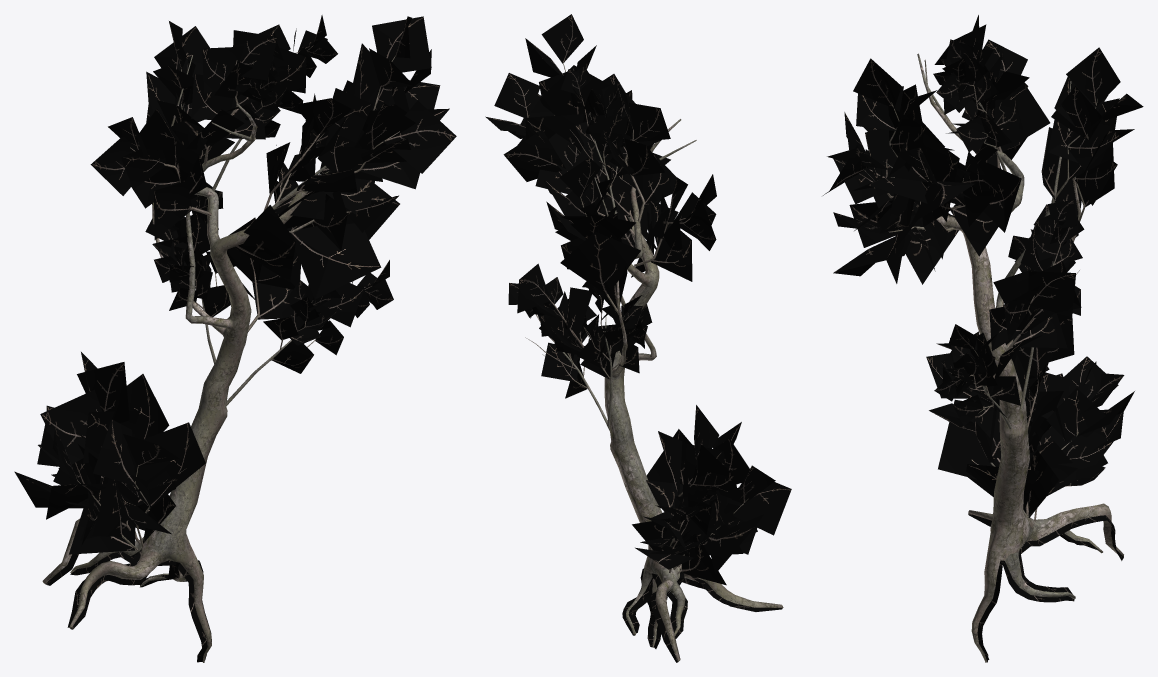
Rendered from SM_Tree_bent_04.fbx.
3 renders of one model, left to right at view 1: azimuth 30°, elevation 25°; view 2: azimuth 150°, elevation 25°; view 3: azimuth 270°, elevation 25°, orthographic. The views are drawn at different scales.
Visible parts, largest first — view 1: SM_Tree_bent_04; view 2: SM_Tree_bent_04; view 3: SM_Tree_bent_04.
Boxes of the visible parts, x1,y1,x2,y2 form: SM_Tree_bent_04: (14, 15, 456, 662); SM_Tree_bent_04: (485, 14, 791, 662); SM_Tree_bent_04: (823, 15, 1143, 662).
Bounding box in the file's own units: 815 × 590 × 1370.
Materials: 2 (2 with a texture image).
